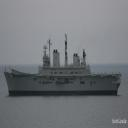Portanaves: (5, 32, 124, 98)
